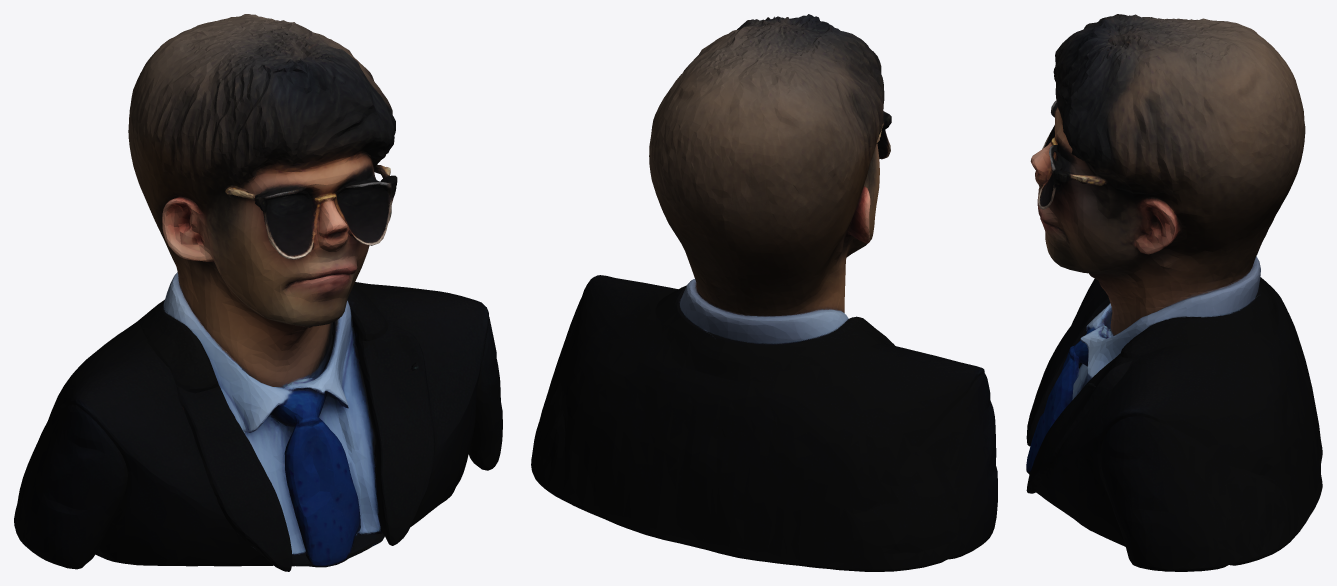
The model's file is trellis-multi.glb.
The picture shows the model from 3 angles, left to right: view 1: azimuth 30°, elevation 25°; view 2: azimuth 150°, elevation 25°; view 3: azimuth 270°, elevation 25°; orthographic projection. The views are drawn at different scales.
Visible parts, largest first — view 1: world; view 2: world; view 3: world.
Part boxes in pixels (x1,y1,x2,y2): world: [14, 14, 502, 571]; world: [531, 14, 997, 571]; world: [1026, 14, 1322, 571].
Size of the model in its own units: 0.999 by 0.9945 by 0.6005.
1 material, 1 textured.
